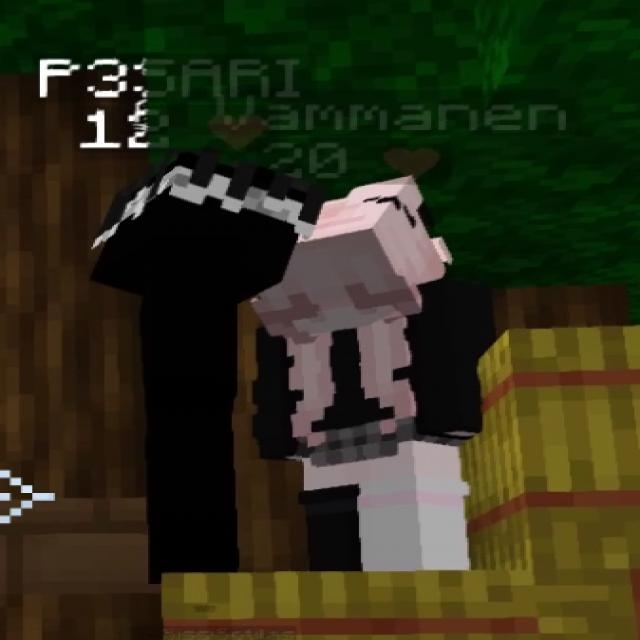Player: (84, 153, 294, 572), (270, 174, 487, 571)
